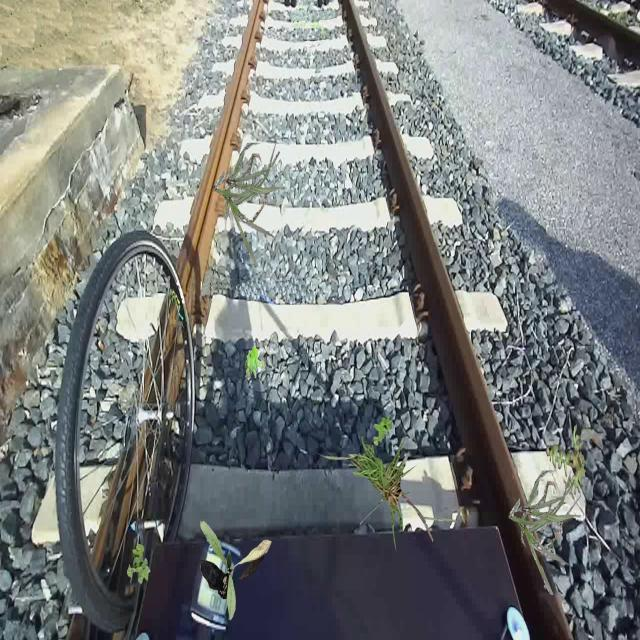Plant: (314, 433, 458, 552), (214, 143, 287, 268), (509, 470, 582, 594), (200, 521, 272, 620), (546, 424, 588, 496), (127, 544, 151, 585), (245, 346, 266, 379), (373, 414, 392, 446)
